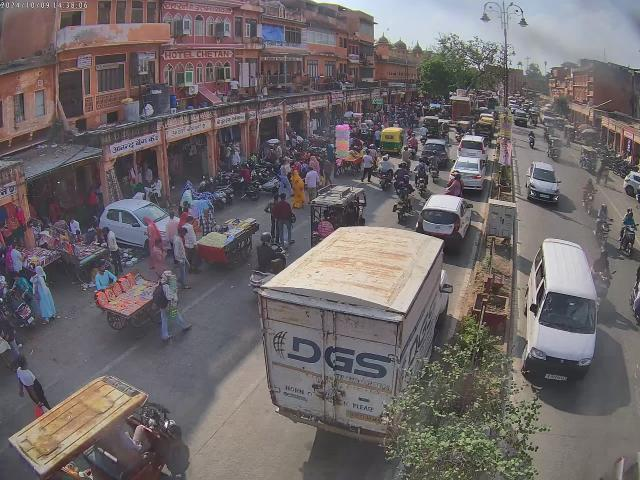auto: (2, 376, 189, 480), (308, 186, 364, 240), (378, 126, 404, 156)
bus: (526, 237, 601, 390)
car: (417, 193, 473, 251), (448, 154, 488, 193), (524, 162, 560, 204), (418, 138, 450, 170), (458, 134, 489, 161), (623, 168, 640, 198)
helmet: (402, 175, 410, 183), (400, 160, 407, 168), (384, 154, 390, 160), (418, 157, 424, 163), (454, 173, 460, 179), (433, 150, 438, 155), (382, 156, 388, 160), (404, 146, 408, 150), (411, 133, 415, 137), (422, 124, 426, 127)
license_plate: (347, 409, 382, 426), (544, 372, 567, 382)
lorry: (258, 222, 454, 448)
motorbike-rider: (392, 186, 418, 223), (592, 205, 612, 248), (582, 179, 597, 212)
person: (158, 272, 190, 341), (264, 193, 296, 246), (174, 226, 194, 290), (101, 224, 124, 275), (290, 170, 304, 208), (305, 167, 319, 202), (152, 238, 165, 270), (362, 150, 374, 184), (66, 216, 82, 241)
scooty: (1, 283, 38, 327), (198, 176, 234, 206)
scooty-rider: (589, 248, 614, 297), (618, 210, 638, 258), (378, 156, 396, 190), (526, 132, 536, 150)
vendor: (95, 263, 172, 326), (198, 218, 260, 270)
